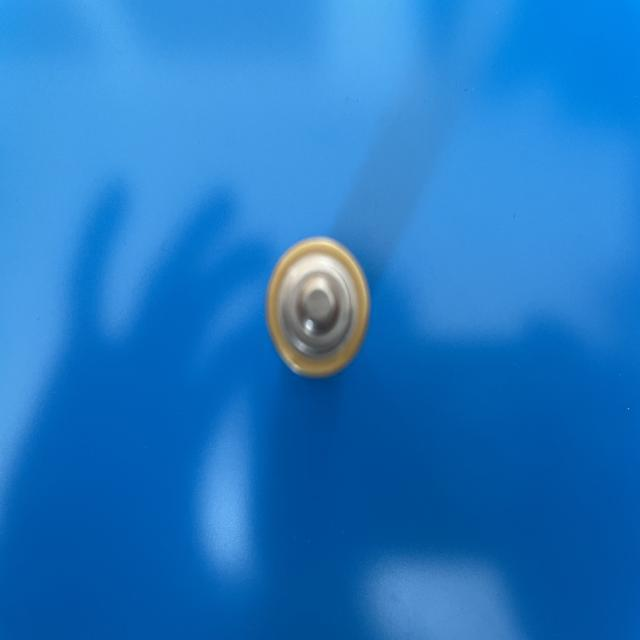hazardous waste: (264, 235, 374, 380)
